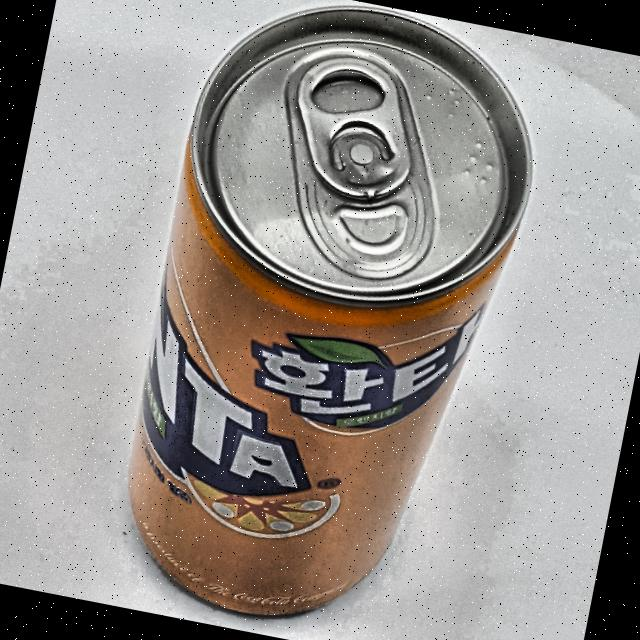fantaorange: (102, 204, 497, 640)
